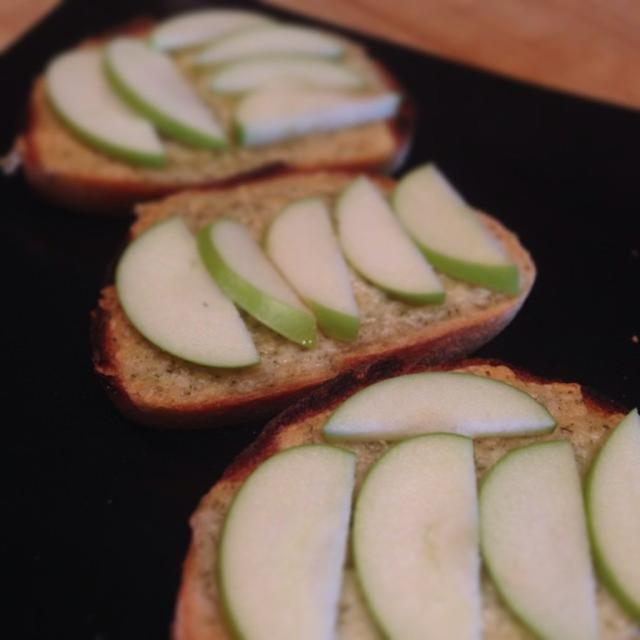apple: (212, 446, 360, 638), (350, 432, 478, 638), (472, 439, 594, 638), (112, 219, 258, 374), (318, 368, 554, 438), (392, 166, 518, 296), (202, 221, 318, 355), (104, 34, 227, 150), (42, 53, 168, 166), (332, 177, 443, 305), (260, 199, 358, 343), (238, 76, 400, 152), (584, 406, 636, 616), (192, 26, 342, 64), (150, 15, 278, 49)
pear: (209, 63, 362, 91)
